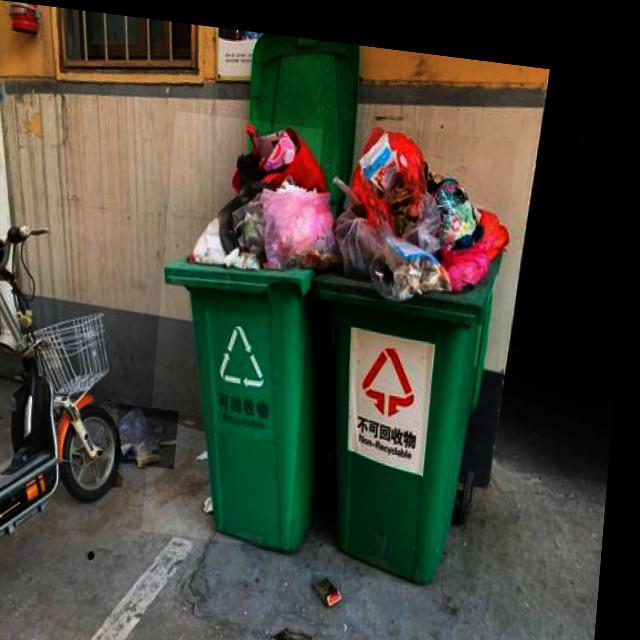garbage: (122, 400, 185, 464), (319, 564, 351, 598)
overflow: (296, 109, 517, 578), (151, 107, 354, 544)
